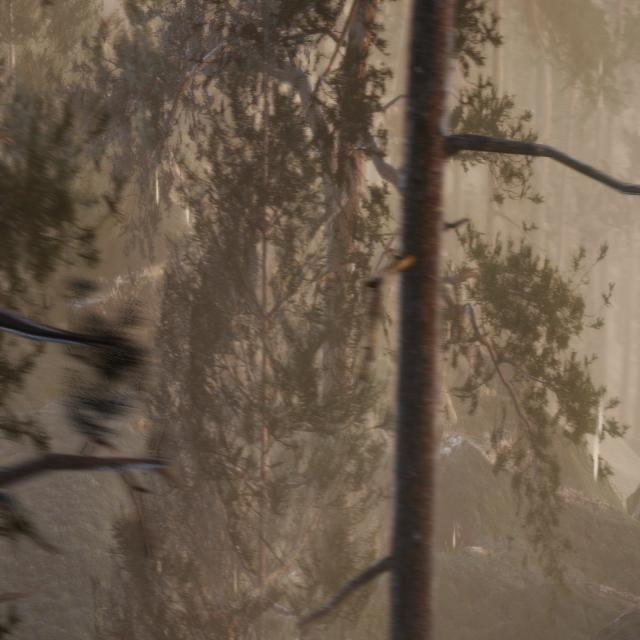Human: (245, 362, 264, 455)
